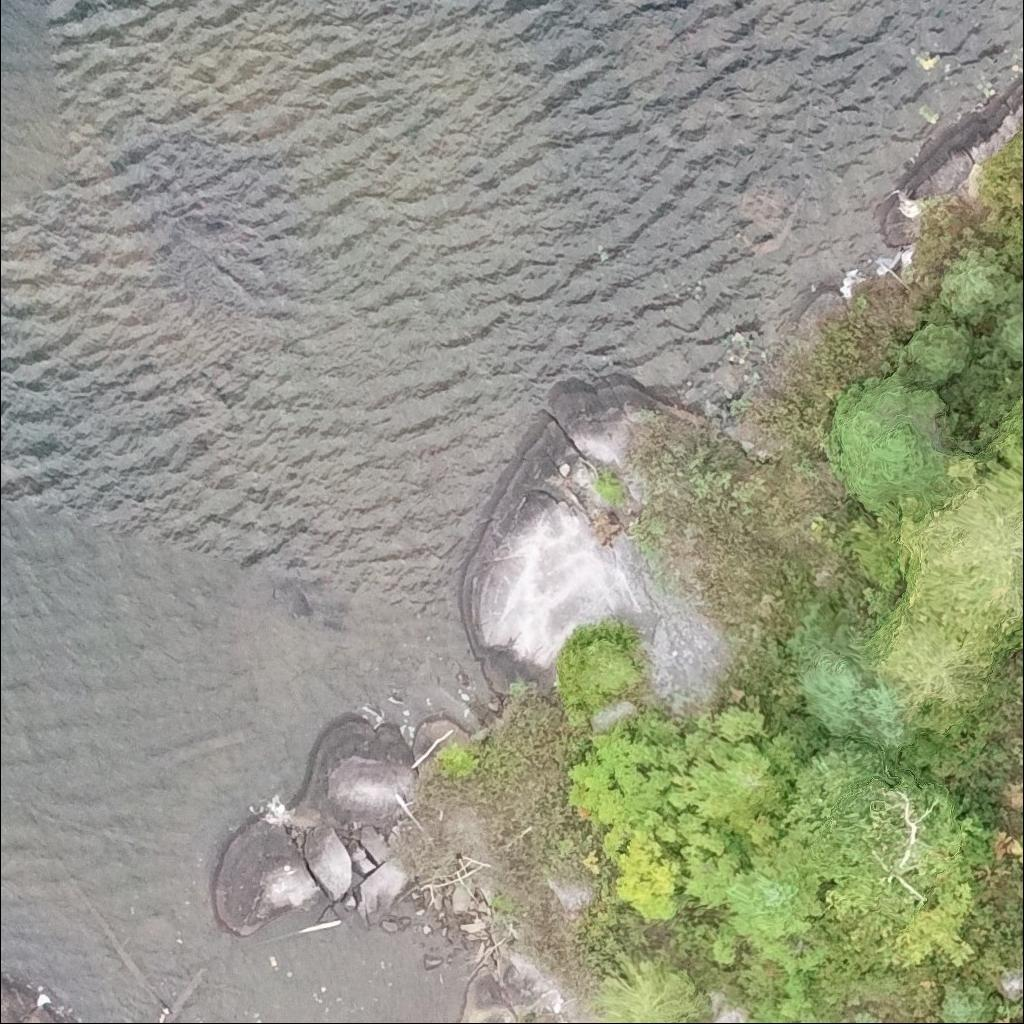crown: (787, 740, 995, 969), (897, 489, 1023, 648), (836, 377, 956, 519), (870, 595, 993, 729), (798, 642, 909, 747), (589, 954, 711, 1023)
